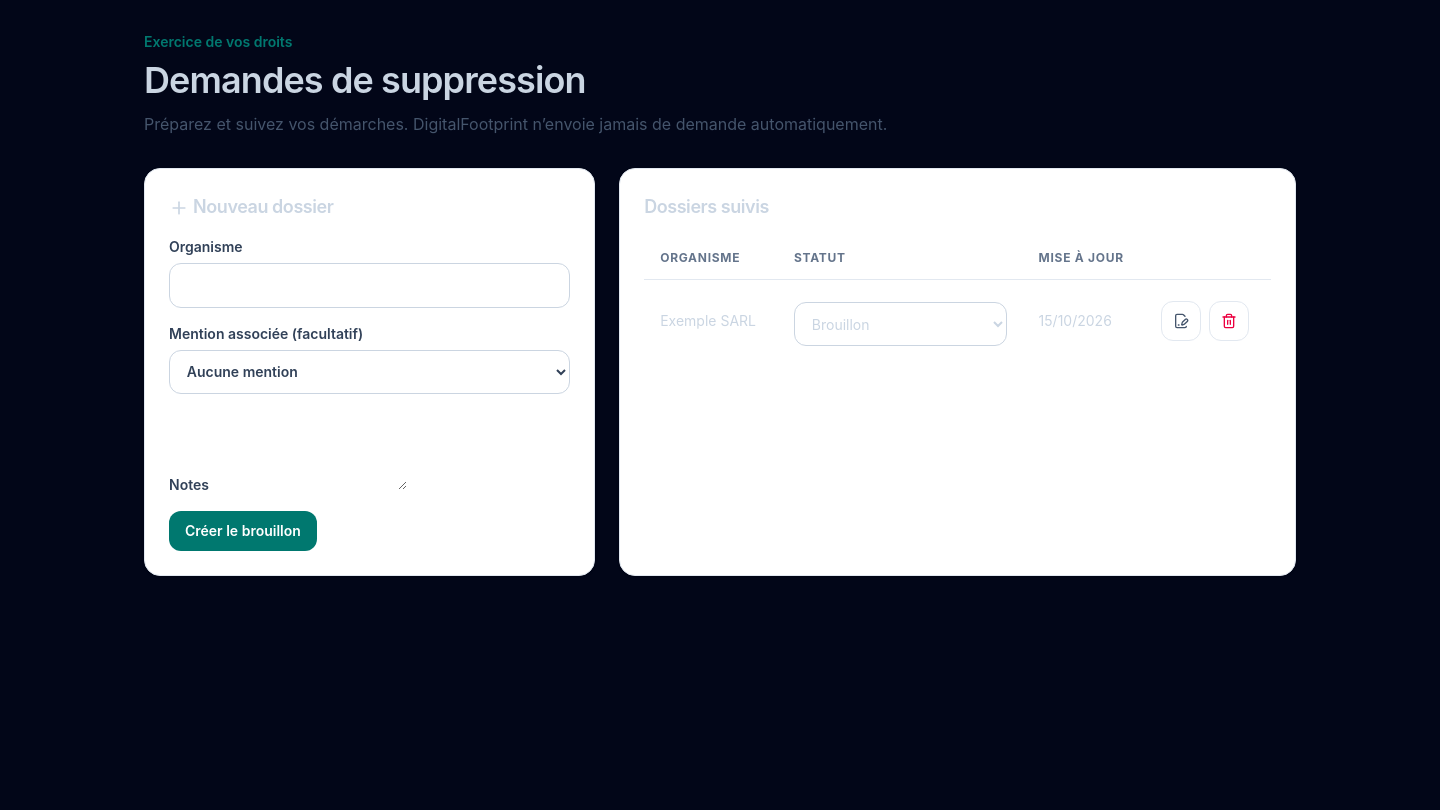
Test: prépare un courrier sans proposer d’envoi automatique
Click the button named "Préparer le courrier pour Exemple SARL".
click(1181, 321)  # box [1161, 301, 1201, 341]
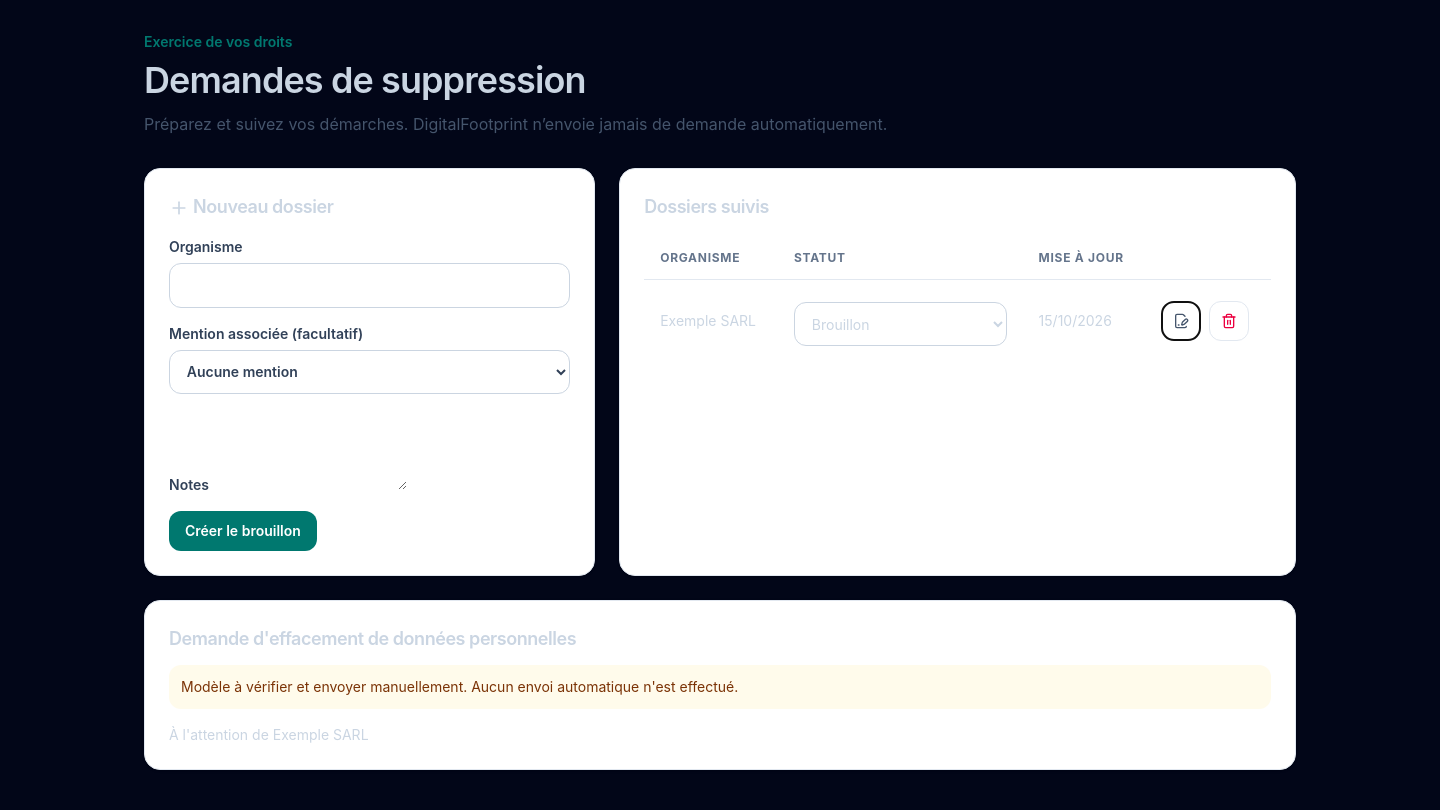
Result: the text "Aucun envoi automatique n'est effectué" is shown at [181, 678, 738, 694]
